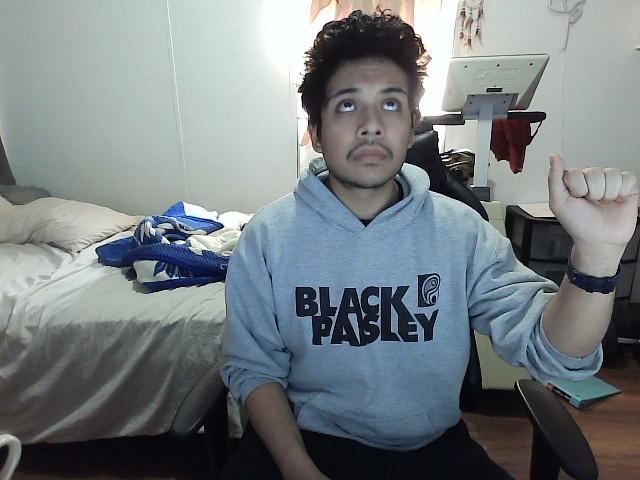A: (536, 135, 640, 259)
